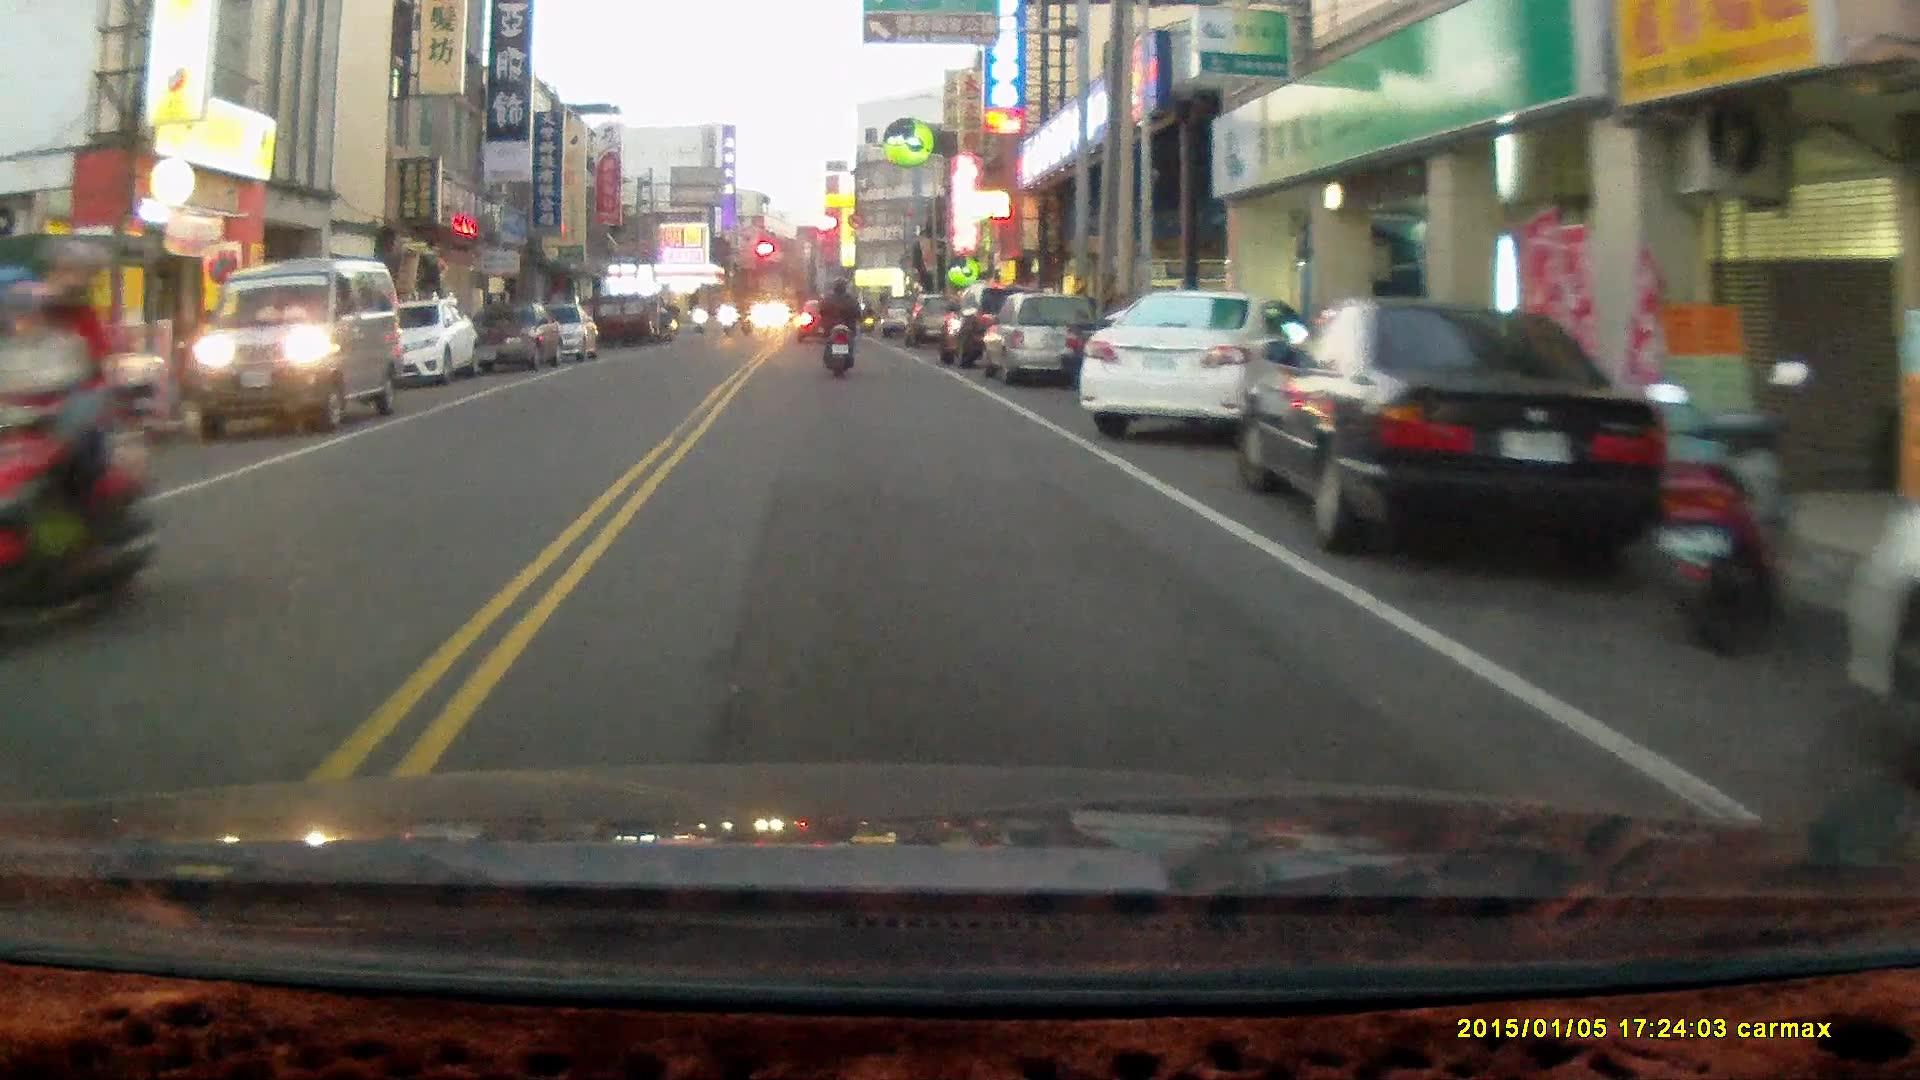rider: (0, 235, 158, 661), (817, 274, 863, 377)
vehicle: (1235, 298, 1686, 559), (201, 261, 408, 435), (1080, 288, 1305, 441), (1840, 504, 1920, 766), (978, 290, 1105, 389), (369, 297, 482, 390)
